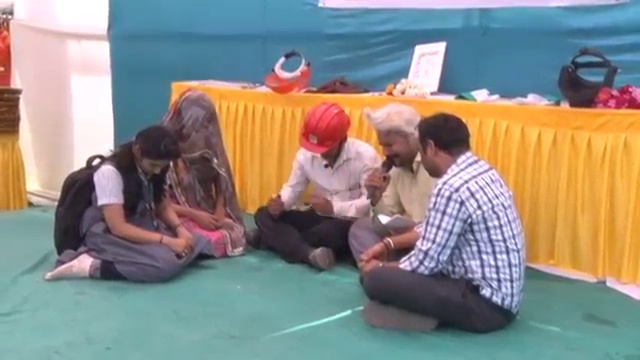helmet: (296, 102, 353, 154)
helmet_off: (414, 111, 476, 182), (167, 93, 222, 160), (371, 104, 422, 173), (124, 122, 178, 184)
helmet_on: (297, 103, 354, 164)
person: (355, 105, 530, 335), (46, 124, 195, 284), (254, 99, 376, 267), (150, 84, 248, 255), (346, 102, 441, 269)
